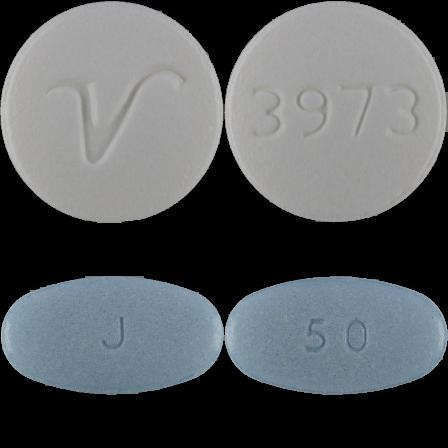61786-378: (0, 0, 224, 224)
